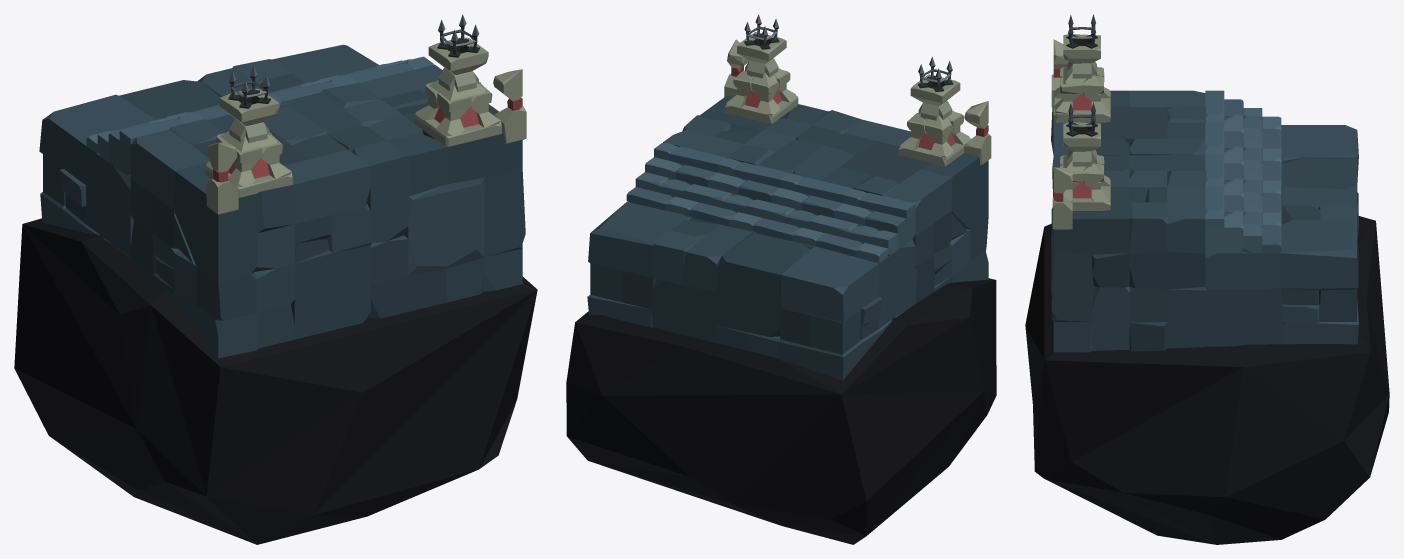
Rendered from platform_transition_to_hallway.fbx.
The picture shows the model from 3 angles, left to right: view 1: azimuth 30°, elevation 25°; view 2: azimuth 150°, elevation 25°; view 3: azimuth 270°, elevation 25°; orthographic projection. The views are drawn at different scales.
Visible parts, largest first — view 1: platform_transition_to_hallway; view 2: platform_transition_to_hallway; view 3: platform_transition_to_hallway.
Boxes of the visible parts, x1,y1,x2,y2 form: platform_transition_to_hallway: [14, 14, 537, 544]; platform_transition_to_hallway: [566, 14, 996, 544]; platform_transition_to_hallway: [1025, 14, 1389, 544].
Bounding box in the file's own units: 1041 × 1313 × 961.
